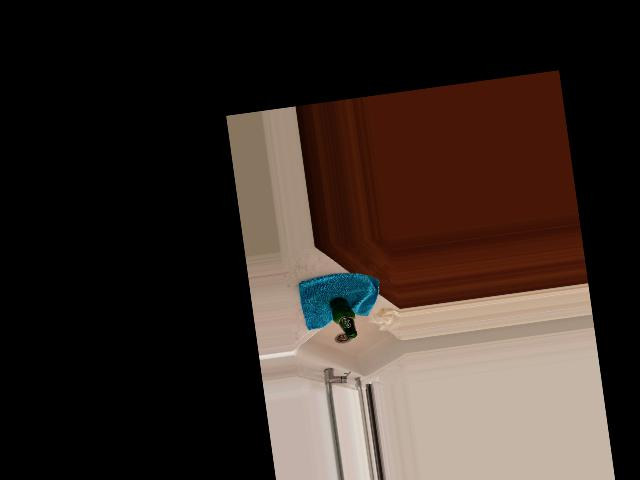beer: (329, 294, 358, 339)
